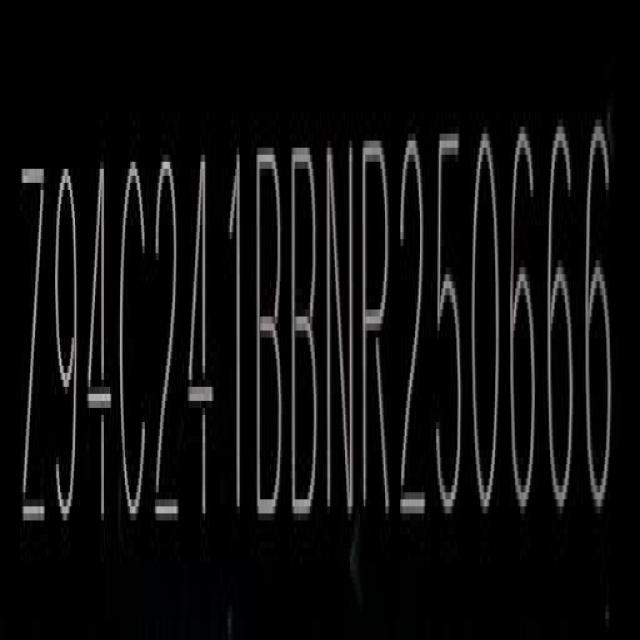0: (470, 122, 501, 524)
1: (225, 144, 245, 536)
2: (152, 151, 182, 544), (400, 127, 429, 524)
4: (188, 148, 217, 540), (86, 158, 114, 546)
5: (435, 125, 464, 526)
6: (585, 112, 618, 516), (543, 116, 575, 522), (508, 125, 538, 526)
9: (49, 161, 79, 547)
B: (254, 140, 286, 536), (294, 138, 322, 532)
C: (119, 152, 154, 543)
N: (325, 137, 358, 531)
R: (361, 133, 393, 524)
Z: (19, 153, 47, 554)
